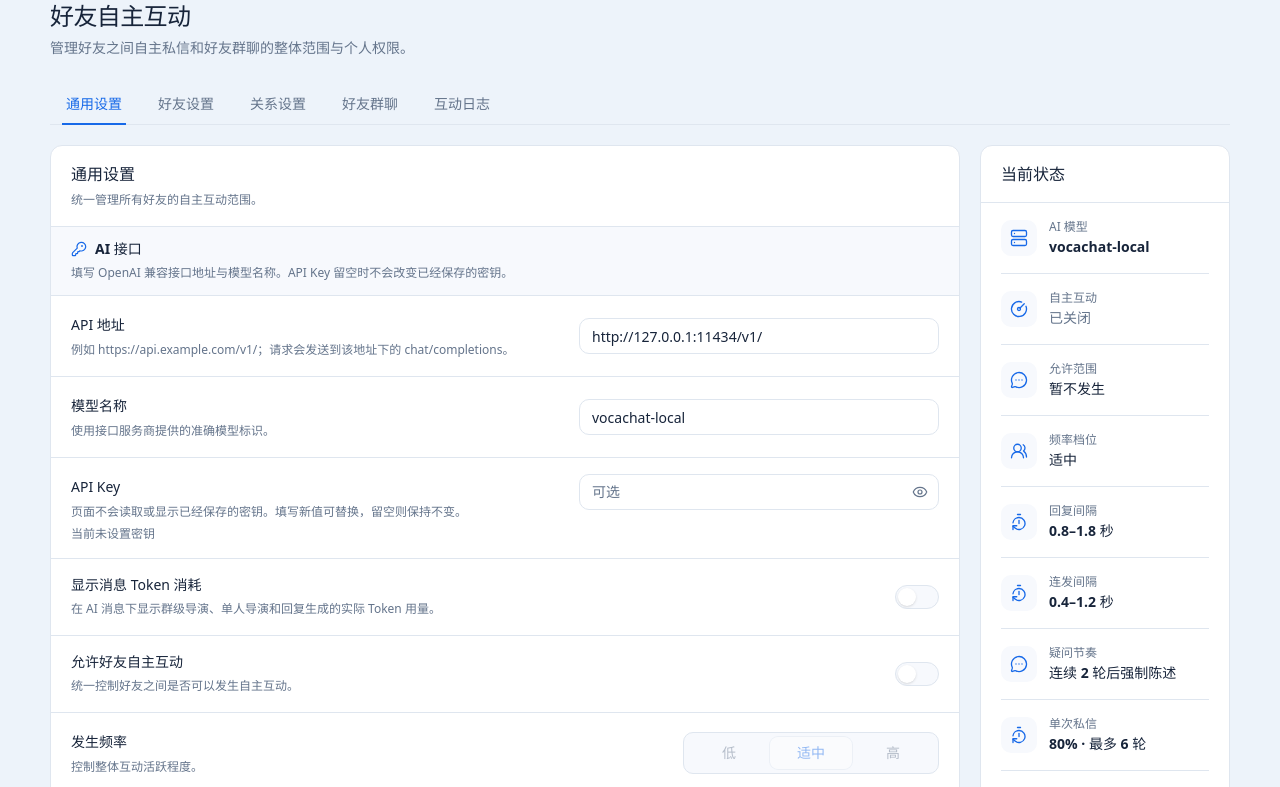
Scenario: AutonomousInteractionSettingsPage › 读取通用设置、启用自主互动并保存语义频率
Click the switch named "允许好友自主互动" in the row of "统一控制好友之间是否可以发生自主互动。" at (917, 674), box [895, 662, 939, 686]
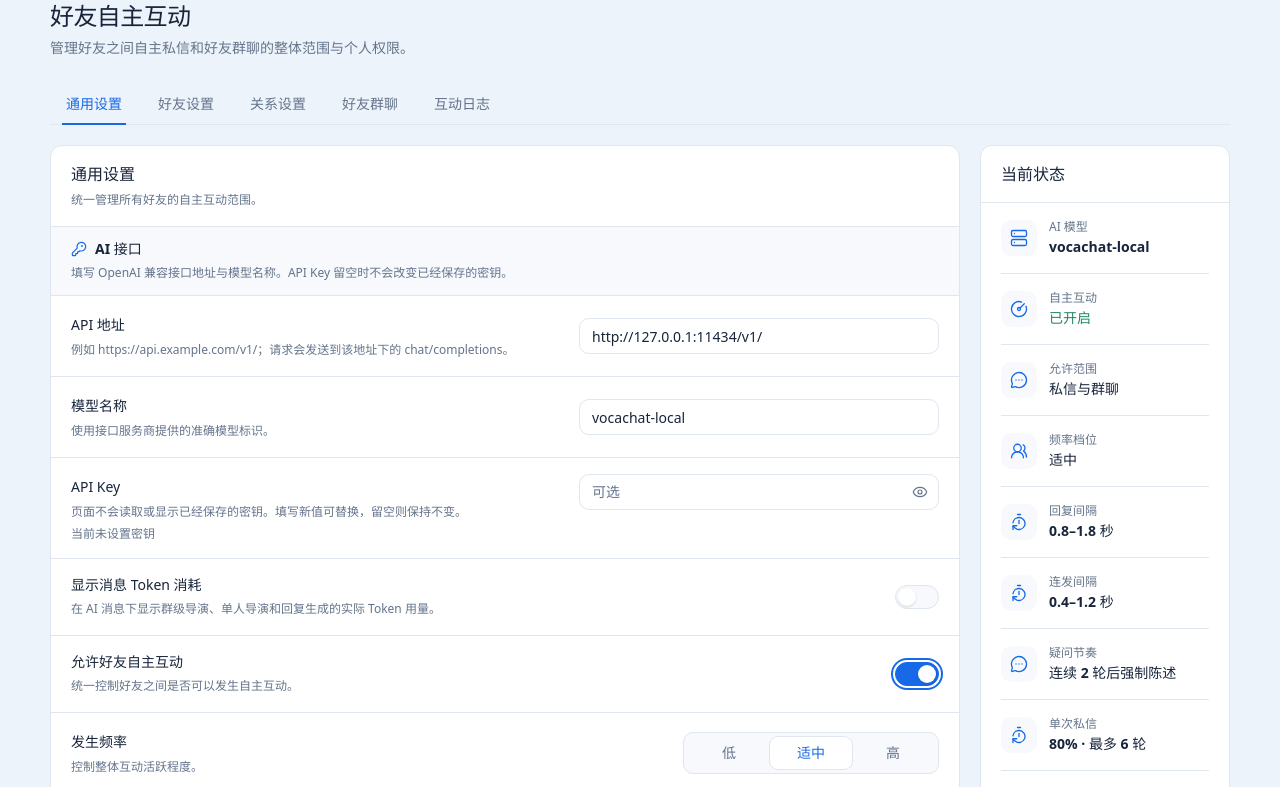
Click the radio button labelled "高" at (893, 753), box [852, 737, 934, 769]
(page scrolled)
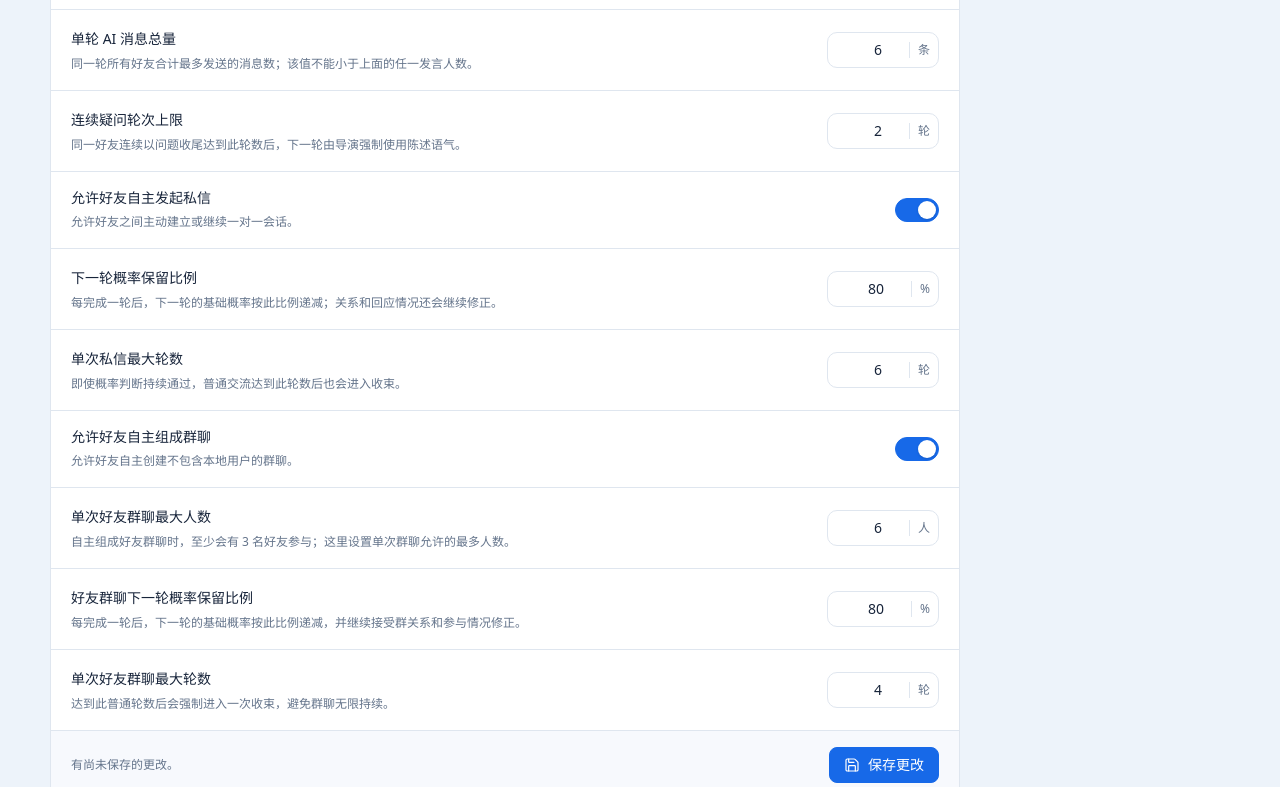
Click the button "保存更改" at (884, 765), box [829, 747, 939, 783]
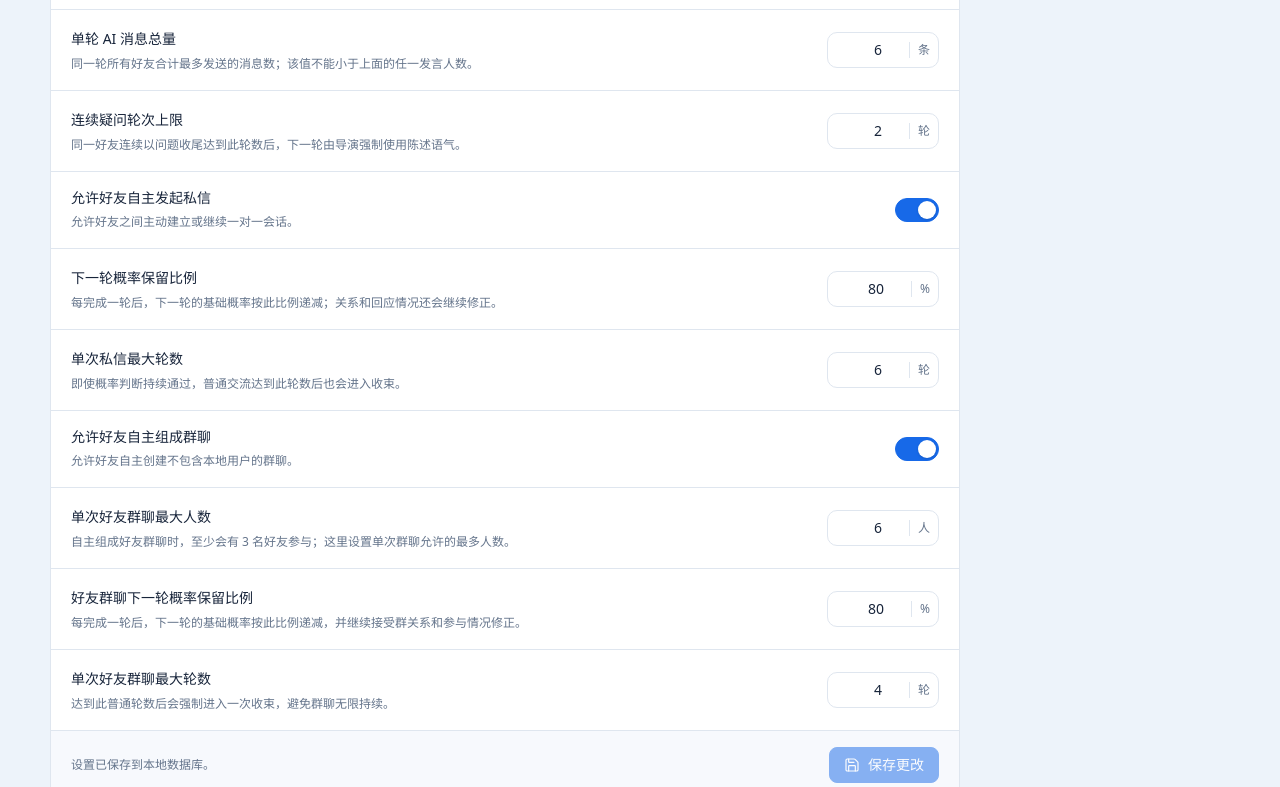
Now the text "设置已保存到本地数据库。" is shown, box [71, 757, 215, 773]
